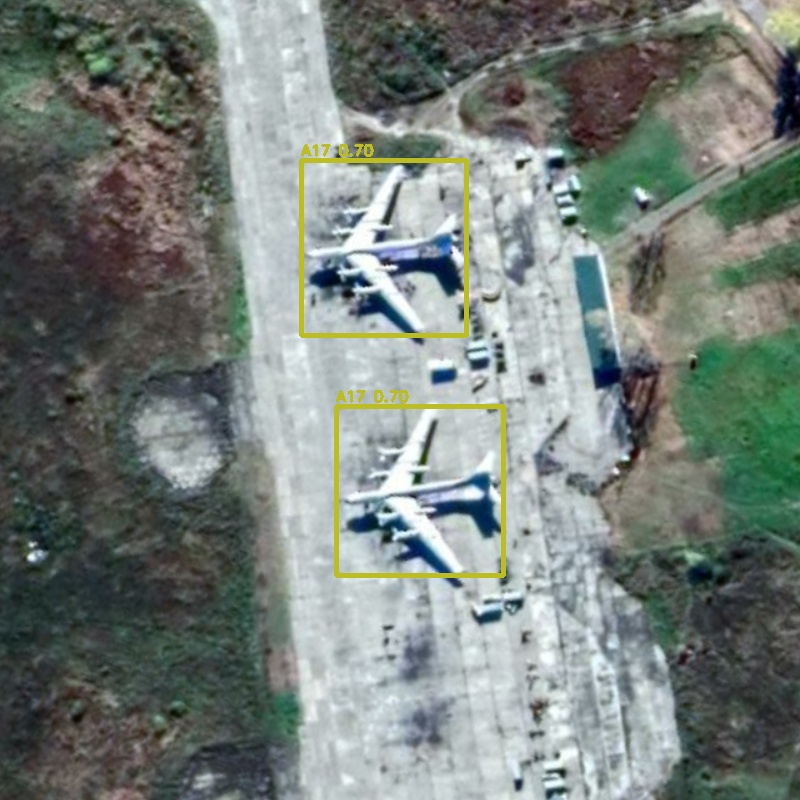A17: (301, 160, 466, 335), (336, 406, 503, 575)
